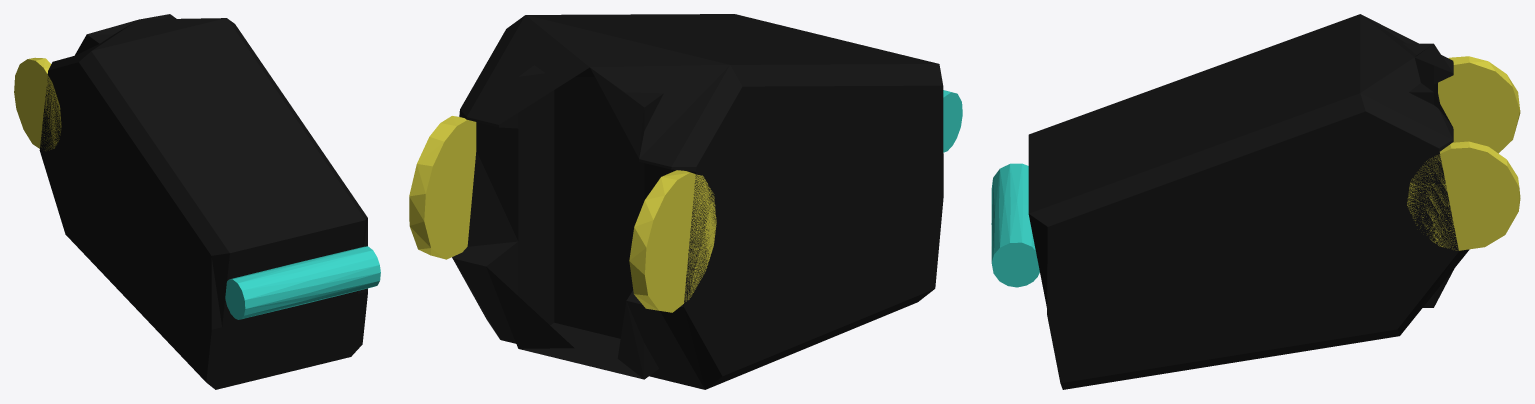
Rendered from calf_sinister_collision.obj.
The picture shows the model from 3 angles, left to right: view 1: azimuth 30°, elevation 25°; view 2: azimuth 150°, elevation 25°; view 3: azimuth 270°, elevation 25°; orthographic projection. The views are drawn at different scales.
Parts seen in each view (by area): view 1: Body2, Body3, Body5; view 2: Body2, Body5, Body4, Body3; view 3: Body2, Body4, Body5, Body3.
Boxes of the visible parts, left/top/right/bottom form: Body2: left=39, top=14, right=367, bottom=389; Body3: left=225, top=246, right=380, bottom=319; Body5: left=14, top=57, right=61, bottom=150; Body2: left=452, top=14, right=943, bottom=389; Body5: left=629, top=170, right=716, bottom=312; Body4: left=409, top=116, right=476, bottom=259; Body3: left=943, top=90, right=962, bottom=152; Body2: left=1028, top=14, right=1469, bottom=389; Body4: left=1407, top=141, right=1520, bottom=250; Body5: left=1438, top=56, right=1520, bottom=153; Body3: left=991, top=163, right=1039, bottom=287.
Size of the model in its own units: 15 by 22.73 by 36.71.
